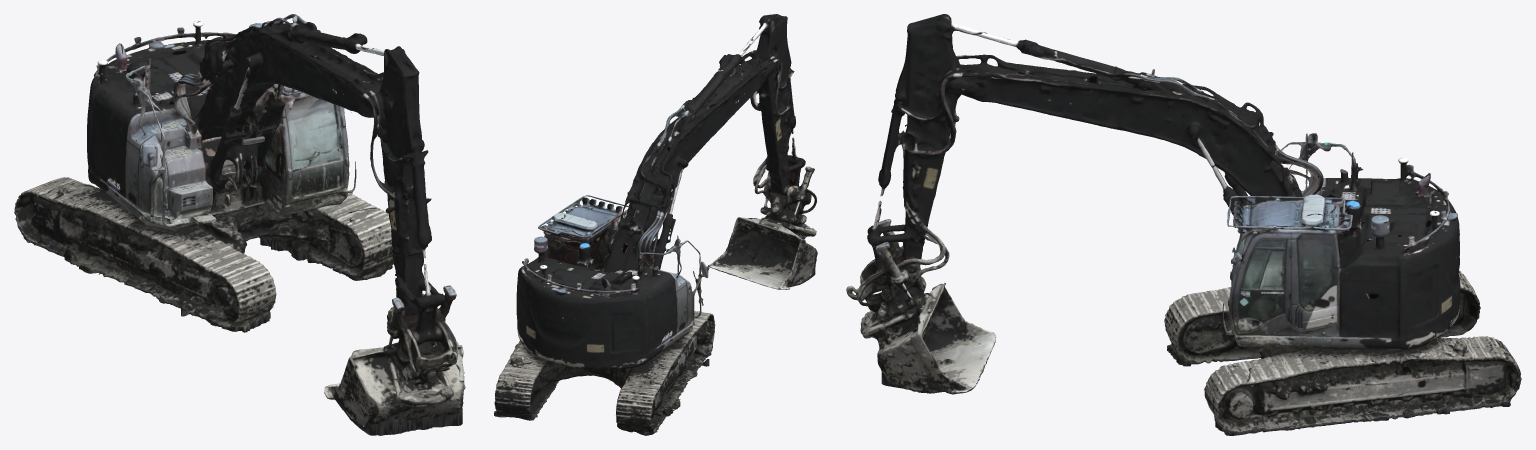
The model's file is pasovy.glb.
3 views of the same model, side by side, from view 1: azimuth 30°, elevation 25°; view 2: azimuth 150°, elevation 25°; view 3: azimuth 270°, elevation 25° (orthographic). The views are drawn at different scales.
Visible parts, largest first — view 1: Object_3, Object_4, Object_5, Object_2; view 2: Object_3, Object_4, Object_5, Object_2; view 3: Object_3, Object_4, Object_5, Object_2.
Part boxes in pixels (bbox=[...]): Object_3: bbox=[87, 21, 465, 429]; Object_4: bbox=[14, 20, 464, 431]; Object_5: bbox=[87, 14, 448, 346]; Object_2: bbox=[23, 223, 462, 435]; Object_3: bbox=[506, 38, 817, 398]; Object_4: bbox=[494, 137, 816, 435]; Object_5: bbox=[528, 14, 806, 353]; Object_2: bbox=[494, 252, 815, 434]; Object_3: bbox=[857, 32, 1491, 433]; Object_4: bbox=[846, 194, 1521, 432]; Object_5: bbox=[866, 14, 1459, 332]; Object_2: bbox=[881, 331, 1510, 435].
Bounding box in the file's own units: 4.38 × 5.87 × 10.24.
2 materials, 1 textured.
